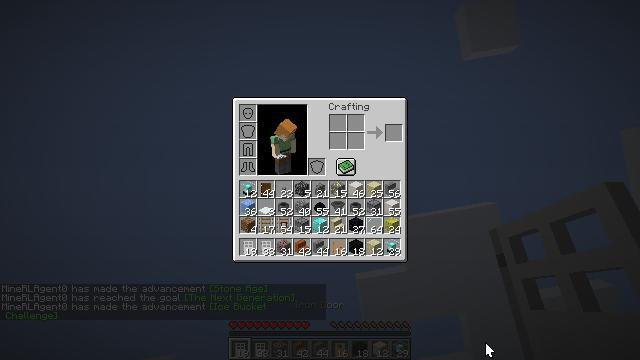cursor: (485, 342, 495, 358)
